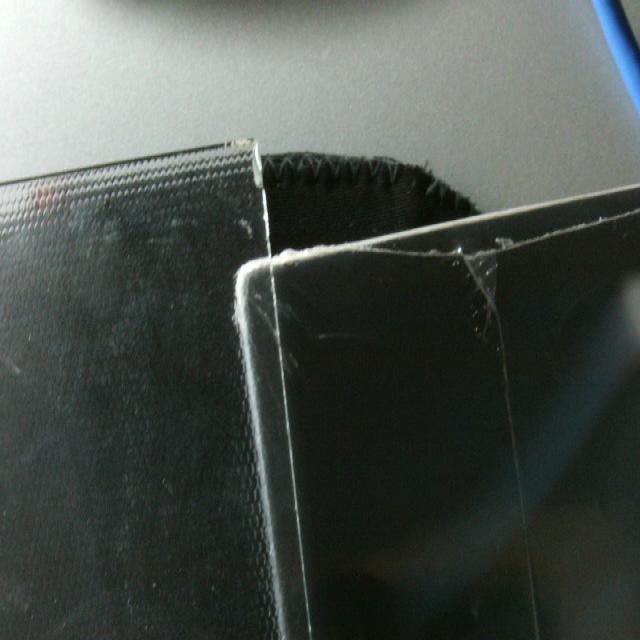edge_chip: (212, 127, 280, 233)
